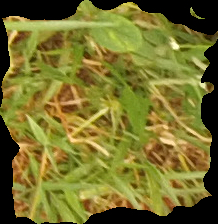grass: (1, 1, 216, 222)
